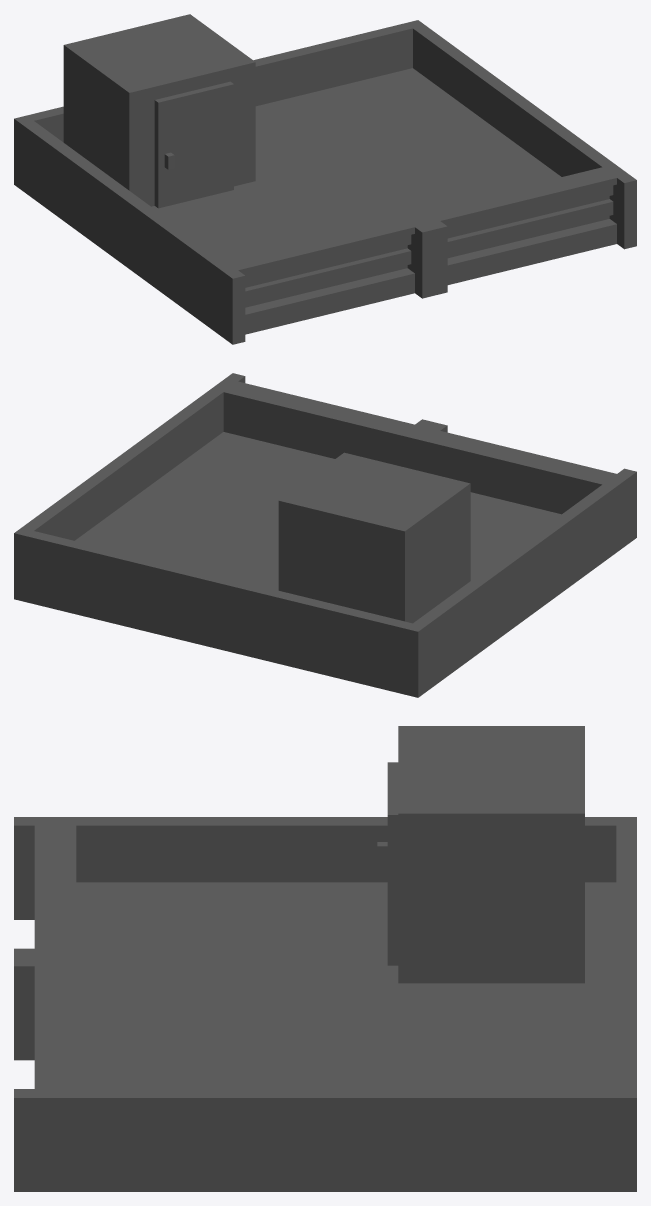
The model's file is bld_story04b.obj.
The picture shows the model from 3 angles, top to bottom: view 1: azimuth 30°, elevation 25°; view 2: azimuth 150°, elevation 25°; view 3: azimuth 270°, elevation 25°; orthographic projection. The views are drawn at different scales.
Size of the model in its own units: 64 by 22 by 60.
